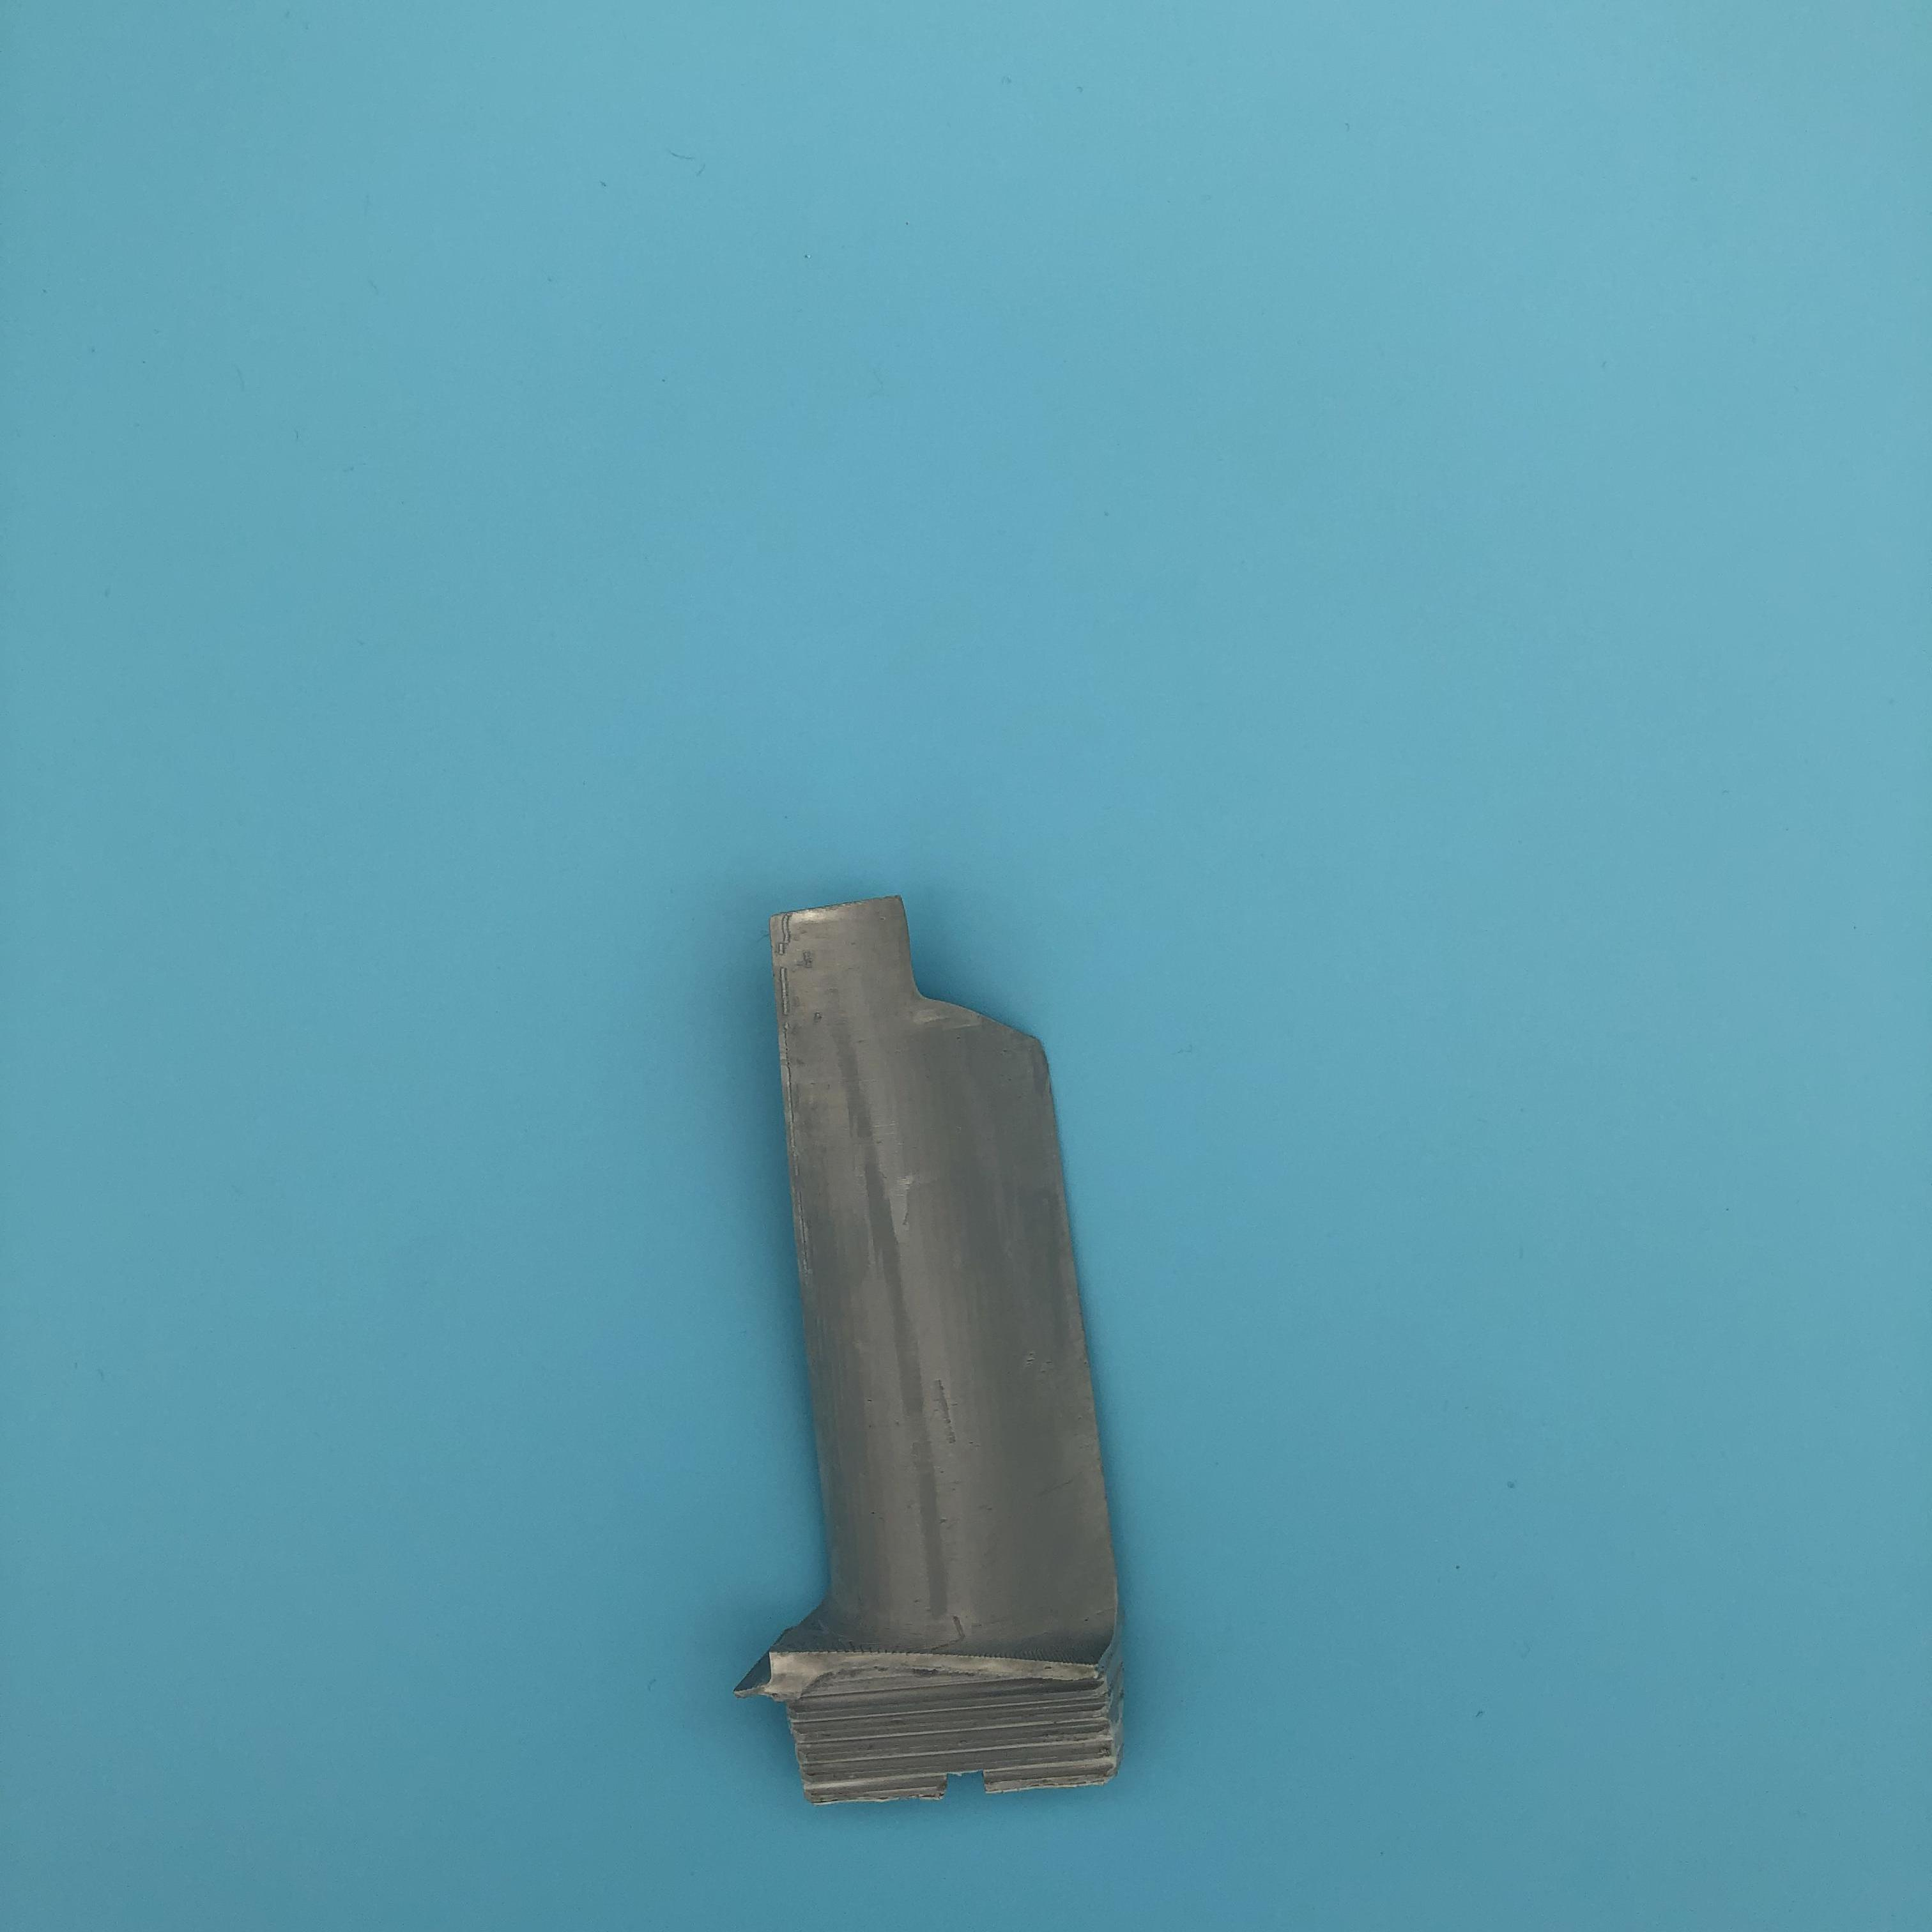fracture: (886, 890, 1060, 1063)
